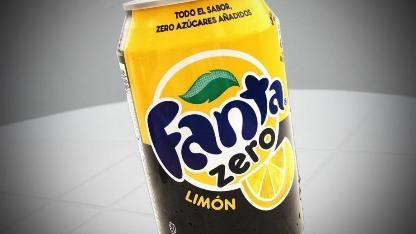Can: (117, 0, 305, 234)
